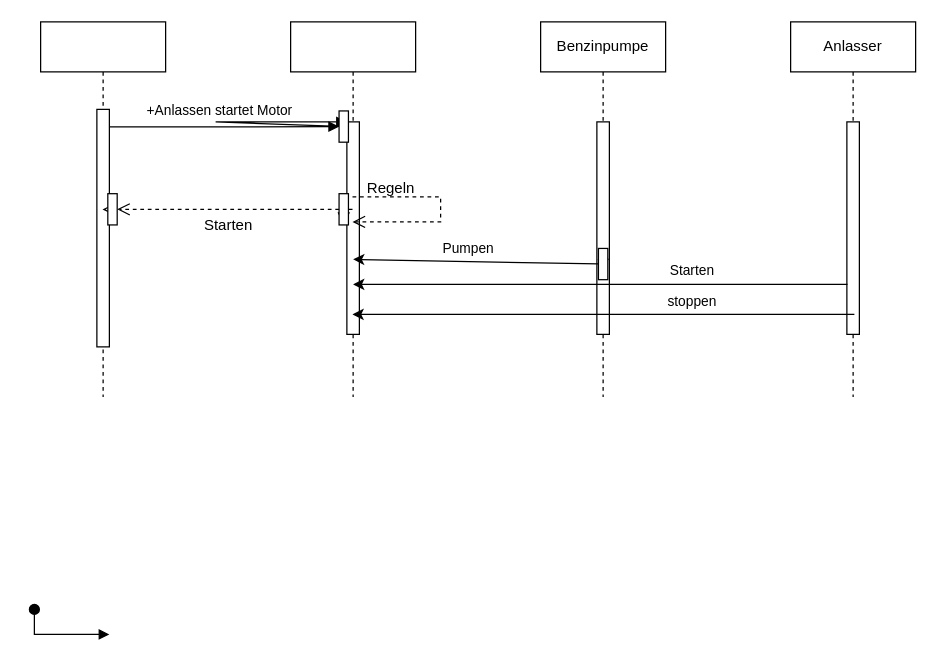
Image size: 938x670. Some labels were removed from this diagram. Each missing label, with the box of its shape:
Auto: (39, 21, 166, 397)
Motor: (289, 21, 416, 397)
